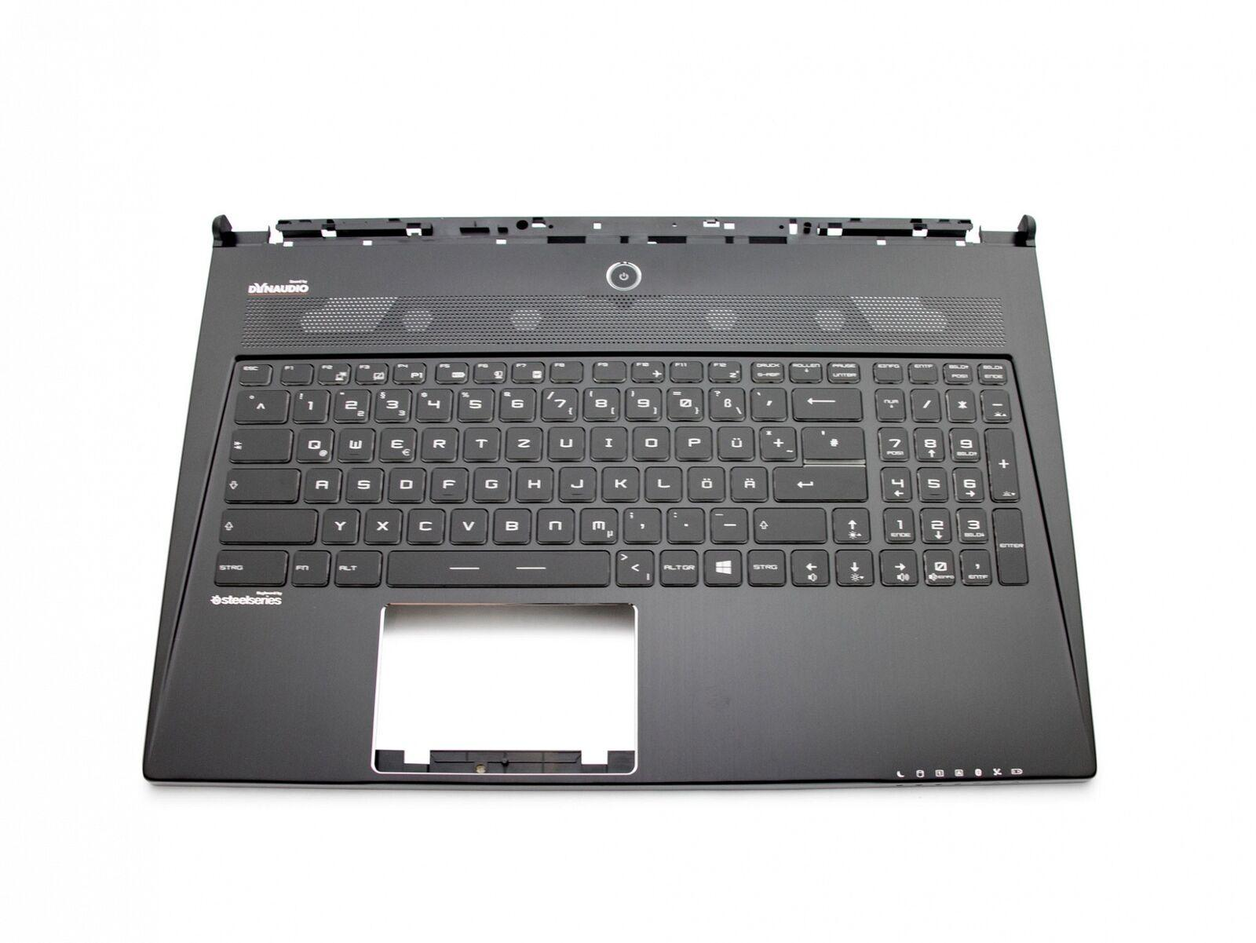0: (664, 383, 702, 418)
1: (290, 385, 327, 421)
2: (331, 385, 369, 421)
3: (372, 385, 410, 420)
4: (414, 385, 451, 419)
5: (455, 385, 492, 419)
6: (497, 384, 535, 419)
7: (539, 384, 576, 419)
8: (580, 384, 618, 419)
9: (623, 383, 660, 418)
a: (301, 463, 340, 501)
accent: (748, 384, 785, 418)
ae: (728, 462, 767, 499)
alt-left: (331, 546, 381, 586)
altgr-right: (658, 546, 699, 585)
b: (490, 504, 531, 542)
c: (404, 505, 444, 542)
caret: (232, 386, 287, 421)
comma: (621, 504, 660, 542)
d: (385, 463, 424, 500)
del: (789, 384, 860, 419)
e: (377, 423, 414, 459)
enter: (771, 462, 865, 499)
f: (429, 463, 466, 499)
g: (471, 463, 509, 500)
h: (513, 463, 552, 500)
hash: (799, 422, 863, 459)
i: (588, 422, 626, 458)
j: (557, 462, 595, 499)
k: (600, 462, 638, 499)
keyboard: (205, 345, 1039, 599)
l: (642, 462, 681, 499)
less: (613, 546, 654, 586)
m: (577, 504, 617, 542)
minus: (707, 504, 747, 541)
n: (534, 504, 574, 542)
o: (630, 422, 669, 459)
oe: (685, 462, 724, 499)
p: (673, 422, 710, 458)
plus: (757, 422, 795, 459)
point: (664, 504, 703, 541)
q: (294, 424, 332, 460)
r: (419, 423, 457, 459)
s: (343, 463, 382, 501)
shift-left: (218, 505, 318, 542)
shift-lock: (222, 464, 298, 500)
shift-right: (750, 503, 826, 541)
space: (384, 546, 611, 586)
ss: (706, 384, 743, 419)
strg-left: (211, 546, 288, 584)
strg-right: (746, 545, 786, 585)
t: (461, 423, 498, 459)
tab: (228, 424, 291, 460)
u: (546, 422, 583, 459)
ue: (715, 422, 753, 458)
v: (447, 504, 487, 542)
w: (335, 423, 373, 459)
x: (362, 505, 401, 542)
y: (319, 505, 358, 542)
z: (503, 422, 541, 459)
